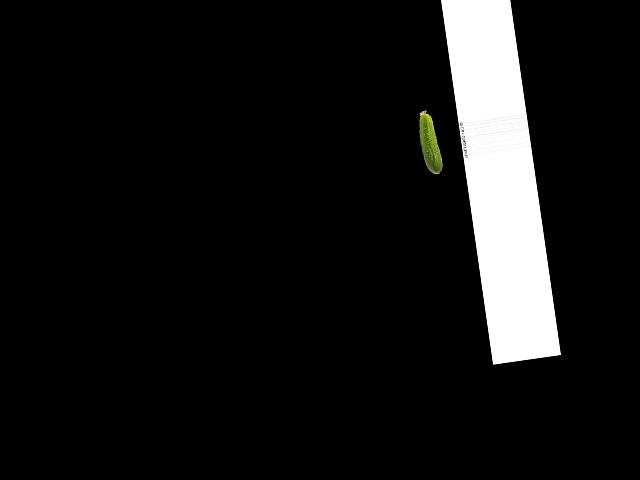cucumber: (416, 109, 443, 176)
